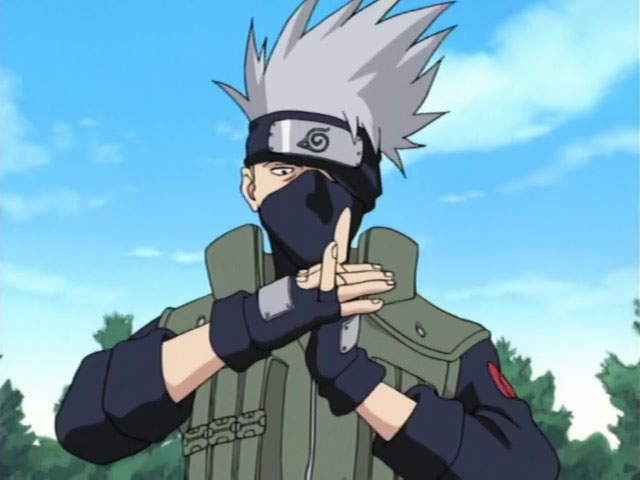kakashi: (236, 108, 388, 268)
